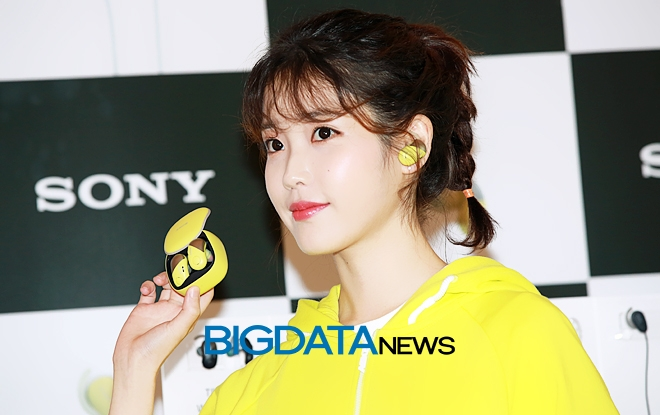earphone: (399, 114, 434, 175)
